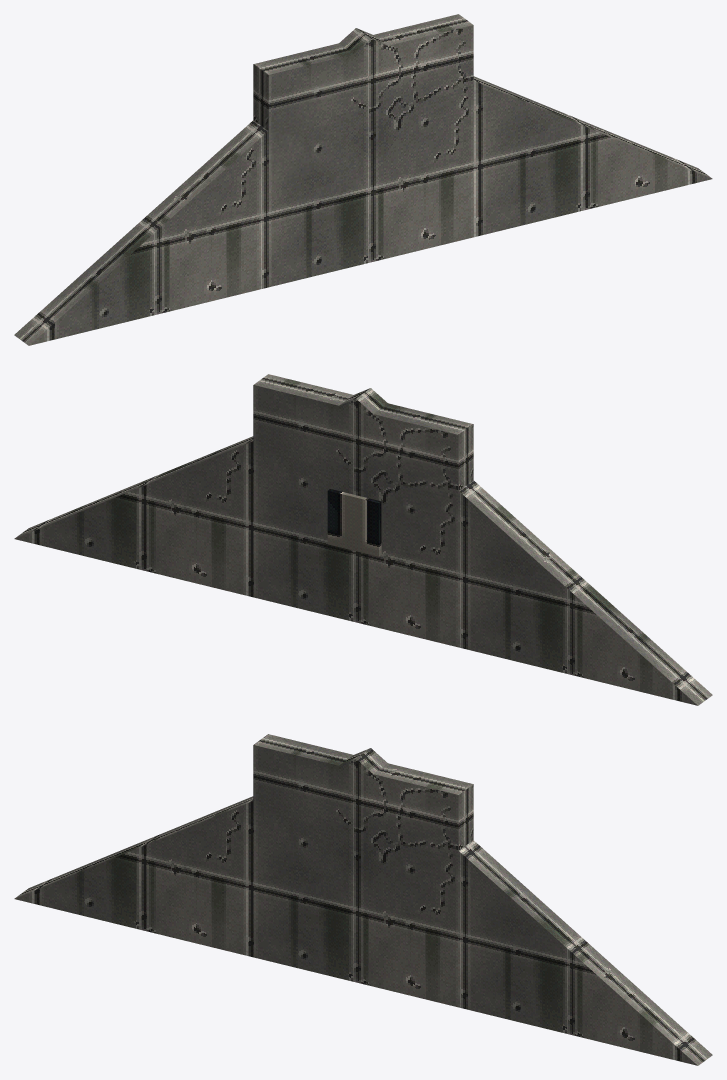
The model's file is gable_concrete_8.glb.
3 views of the same model, one above another, from view 1: azimuth 30°, elevation 25°; view 2: azimuth 150°, elevation 25°; view 3: azimuth 330°, elevation 25° (orthographic).
Parts seen in each view (by area): view 1: gable_concrete_8_mesh, gable_concrete_8_col-colonly.001; view 2: gable_concrete_8_mesh, gable_concrete_8_col-colonly.001; view 3: gable_concrete_8_mesh, gable_concrete_8_col-colonly.001.
Boxes of the visible parts, <box> form: gable_concrete_8_mesh: <box>14,28,712,345</box>; gable_concrete_8_col-colonly.001: <box>253,14,473,186</box>; gable_concrete_8_mesh: <box>14,388,712,705</box>; gable_concrete_8_col-colonly.001: <box>253,374,473,544</box>; gable_concrete_8_mesh: <box>14,748,712,1065</box>; gable_concrete_8_col-colonly.001: <box>253,734,473,900</box>.
Size of what is drawn, in the model's own units: 8 by 2.5 by 0.355.
Materials: 2 (2 with a texture image).
